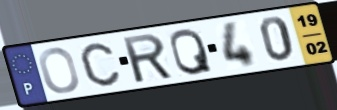0: (258, 15, 296, 64)
4: (220, 19, 260, 69)
C: (78, 41, 122, 88)
O: (38, 46, 82, 95)
Q: (168, 26, 215, 77)
R: (120, 32, 176, 85)
